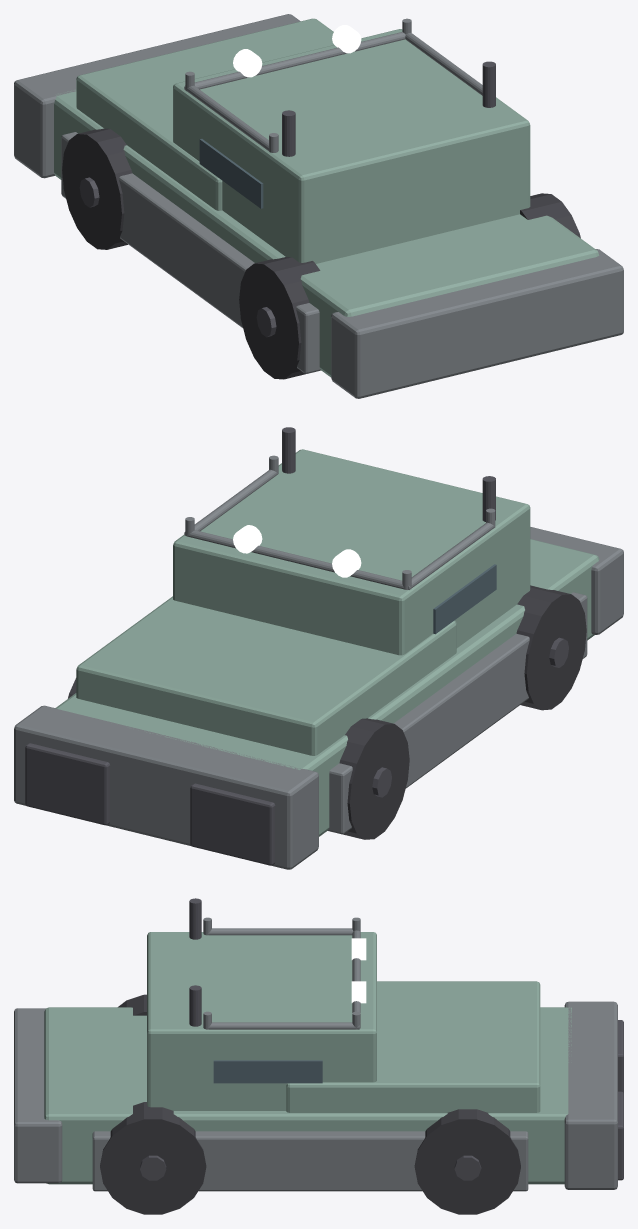
Rendered from iron_tanker.glb.
3 views of the same model, one above another, from view 1: azimuth 30°, elevation 25°; view 2: azimuth 150°, elevation 25°; view 3: azimuth 270°, elevation 25° (orthographic). The views are drawn at different scales.
Parts seen in each view (by area): view 1: Tanker_Cab, Rear_Heavy_Bumper, Tanker_Hull_Lower, Tanker_Hood, Armor_Skirt_R, Box_Bumper_Main, IT_W_RR_tire, IT_W_FR_tire, Side_Slit_R, Cage_Cross, IT_W_RL_tire, Cage_Top_R (+5 smaller); view 2: Tanker_Cab, Tanker_Hood, Box_Bumper_Main, Tanker_Hull_Lower, Armor_Skirt_R, IT_W_RR_tire, IT_W_FR_tire, Bumper_Wedge_R, Bumper_Wedge_L, Rear_Heavy_Bumper, Side_Slit_R, Cage_Cross (+5 smaller); view 3: Tanker_Cab, Tanker_Hull_Lower, Tanker_Hood, Armor_Skirt_L, Box_Bumper_Main, IT_W_RL_tire, IT_W_FL_tire, Rear_Heavy_Bumper, Side_Slit_L, Cage_Top_L, Cage_Top_R, IT_W_FL_hub (+4 smaller).
Part boxes in pixels (<box>): Tanker_Cab: <box>173,29,530,263</box>; Rear_Heavy_Bumper: <box>331,249,623,398</box>; Tanker_Hull_Lower: <box>54,89,599,377</box>; Tanker_Hood: <box>76,18,333,210</box>; Armor_Skirt_R: <box>61,132,320,373</box>; Box_Bumper_Main: <box>14,14,300,178</box>; IT_W_RR_tire: <box>239,257,320,379</box>; IT_W_FR_tire: <box>62,128,132,249</box>; Side_Slit_R: <box>199,139,263,208</box>; Cage_Cross: <box>194,32,405,89</box>; IT_W_RL_tire: <box>520,193,580,238</box>; Cage_Top_R: <box>184,85,269,151</box>; Tanker_Cab: <box>173,449,530,655</box>; Tanker_Hood: <box>76,596,456,755</box>; Box_Bumper_Main: <box>14,705,318,869</box>; Tanker_Hull_Lower: <box>55,539,599,836</box>; Armor_Skirt_R: <box>328,592,587,834</box>; IT_W_RR_tire: <box>516,585,586,710</box>; IT_W_FR_tire: <box>339,718,409,839</box>; Bumper_Wedge_R: <box>190,783,275,865</box>; Bumper_Wedge_L: <box>25,743,110,825</box>; Rear_Heavy_Bumper: <box>530,527,623,634</box>; Side_Slit_R: <box>433,564,496,634</box>; Cage_Cross: <box>187,530,405,589</box>; Tanker_Cab: <box>147,932,376,1110</box>; Tanker_Hull_Lower: <box>44,1007,571,1184</box>; Tanker_Hood: <box>286,981,540,1112</box>; Armor_Skirt_L: <box>92,1131,528,1191</box>; Box_Bumper_Main: <box>564,1001,617,1189</box>; IT_W_RL_tire: <box>100,1102,206,1214</box>; IT_W_FL_tire: <box>414,1109,520,1214</box>; Rear_Heavy_Bumper: <box>14,1008,62,1183</box>; Side_Slit_L: <box>213,1060,322,1083</box>; Cage_Top_L: <box>208,1022,359,1029</box>; Cage_Top_R: <box>208,928,353,935</box>; IT_W_FL_hub: <box>454,1155,481,1180</box>.
Bounding box in the file's own units: 2.52 × 1.89 × 5.04.
